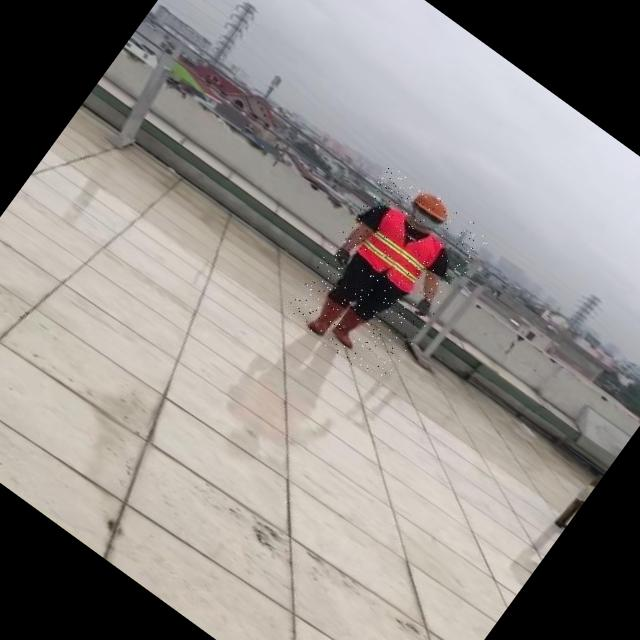hard_hat: (410, 185, 454, 225)
safety_vest: (352, 204, 448, 298)
vehicle: (281, 162, 492, 387)
work_boots: (300, 290, 350, 342), (327, 306, 372, 352)
